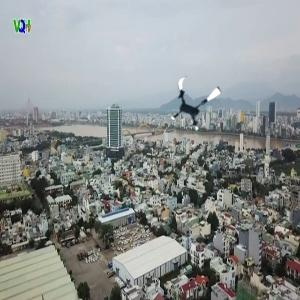drone: (168, 75, 224, 131)
